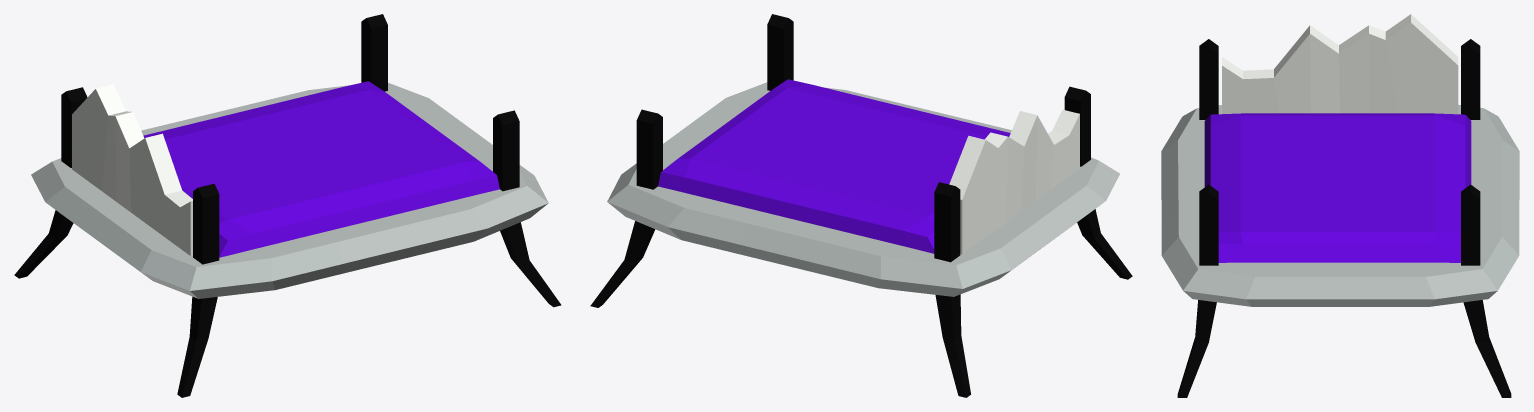
Rendered from bigBed.glb.
The picture shows the model from 3 angles, left to right: view 1: azimuth 30°, elevation 25°; view 2: azimuth 150°, elevation 25°; view 3: azimuth 270°, elevation 25°; orthographic projection.
Parts seen in each view (by area): view 1: Cube.003, Cube, Cube.001, Cube.002; view 2: Cube.003, Cube, Cube.001, Cube.002; view 3: Cube.003, Cube, Cube.002, Cube.001.
Part boxes in pixels (bbox=[...]): Cube.003: bbox=[143, 81, 499, 257]; Cube: bbox=[31, 82, 548, 298]; Cube.001: bbox=[14, 14, 561, 397]; Cube.002: bbox=[72, 84, 192, 255]; Cube.003: bbox=[658, 79, 1010, 253]; Cube: bbox=[607, 82, 1119, 296]; Cube.001: bbox=[590, 14, 1132, 397]; Cube.002: bbox=[949, 109, 1079, 254]; Cube.003: bbox=[1204, 113, 1471, 262]; Cube: bbox=[1161, 104, 1519, 306]; Cube.002: bbox=[1222, 14, 1458, 114]; Cube.001: bbox=[1177, 39, 1511, 397].
Bounding box in the file's own units: 9.49 × 4.96 × 7.51.
